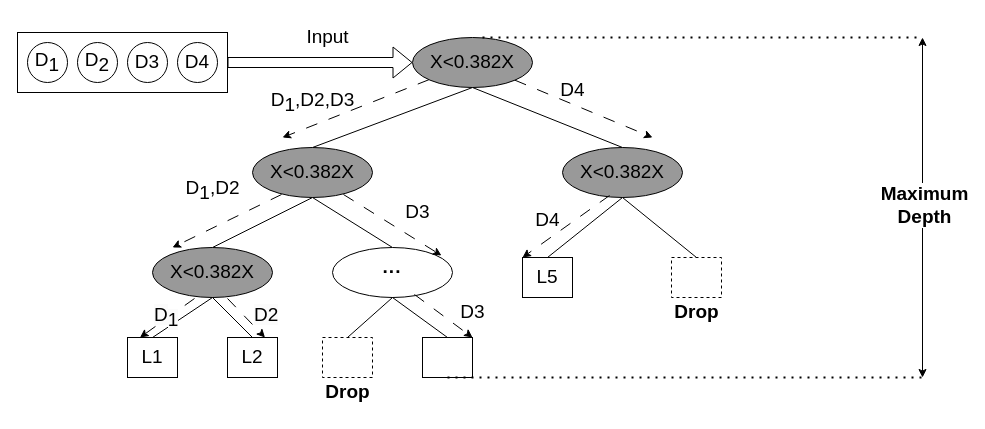
Image size: 985x429. Some labels were removed from this diagram. Each missing label, with the centre of its shape:
"L3" goes at point (347, 357).
"L4" goes at point (447, 357).
"L6" goes at point (696, 277).
